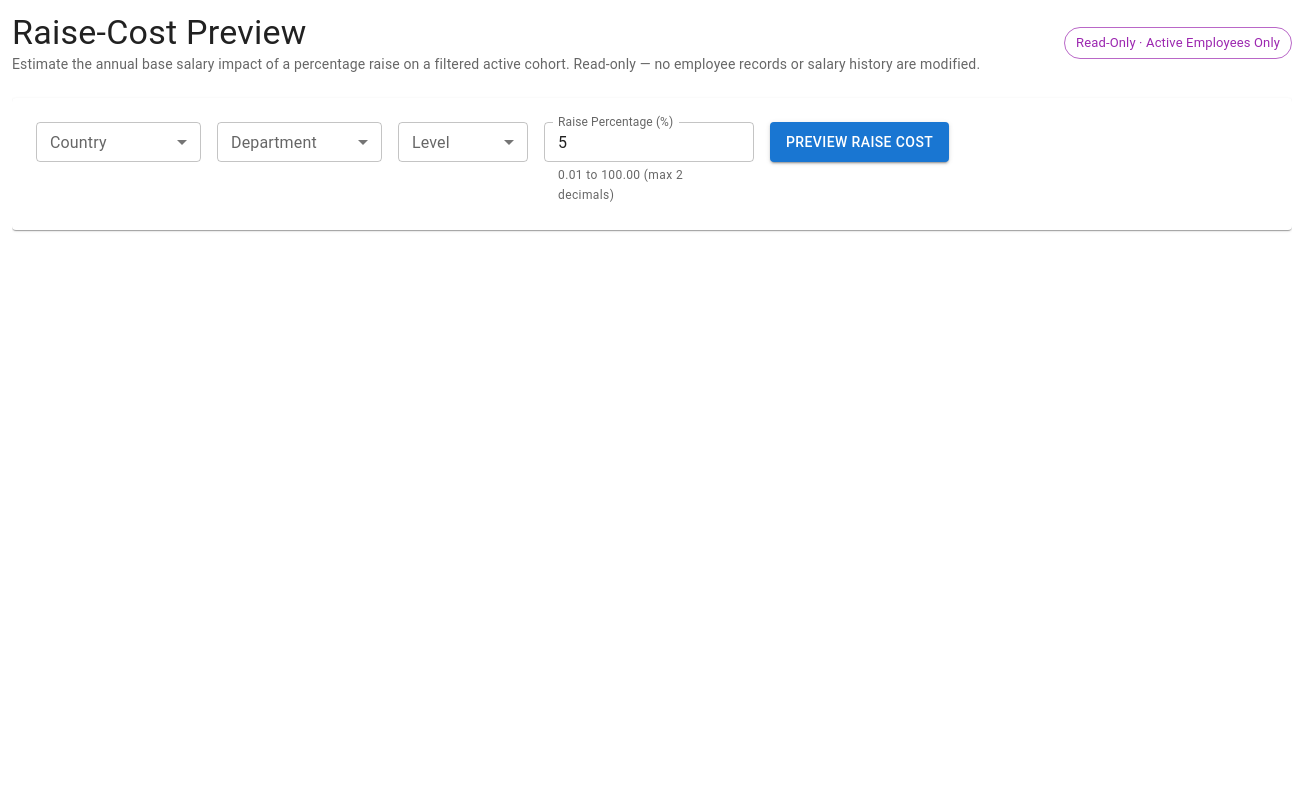
Test: RaiseCostPreviewPage validation, preview display, and directory link › validates invalid percentage locally and displays preview figures with matching directory link
Replace the text in the field labelled "Raise Percentage (%)" with "0": (649, 142) top-left (544, 122), bottom-right (754, 162)
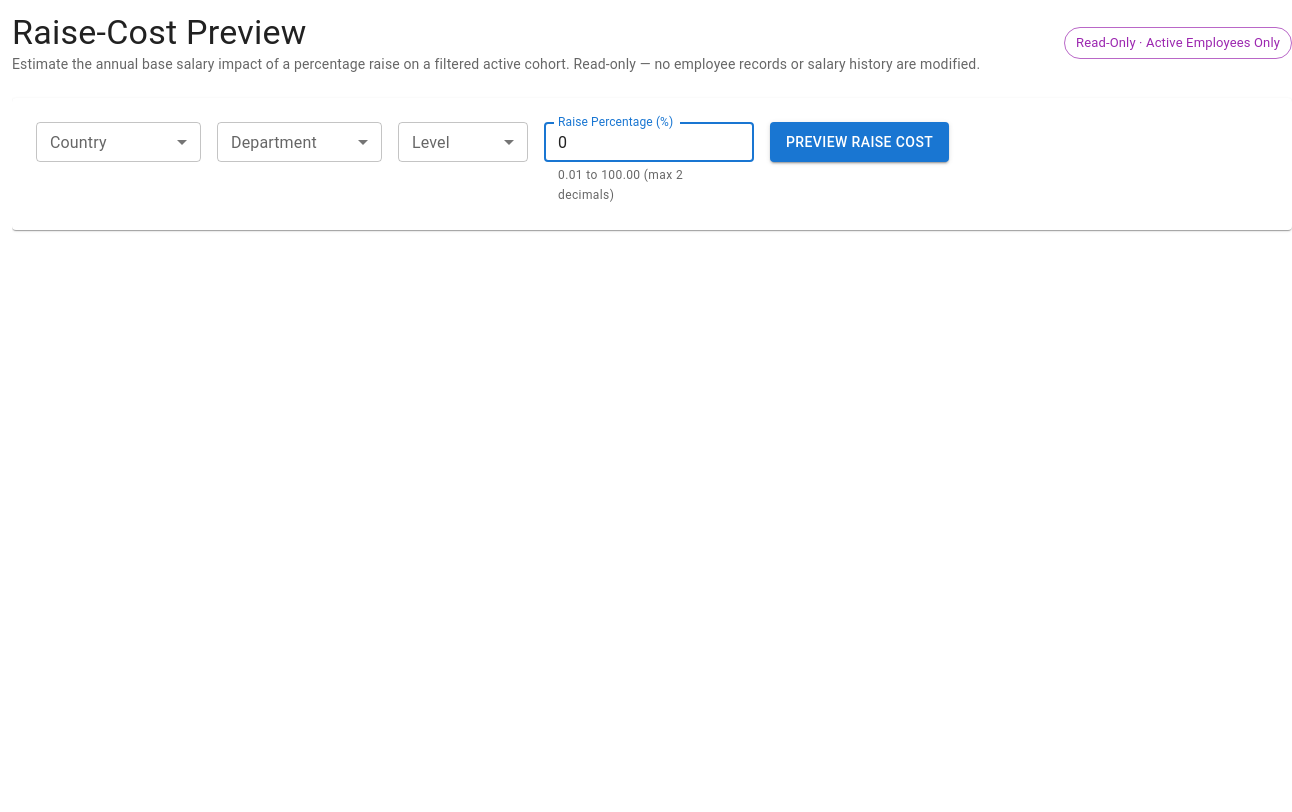
Click the button "Preview Raise Cost": (860, 142) top-left (770, 122), bottom-right (949, 162)
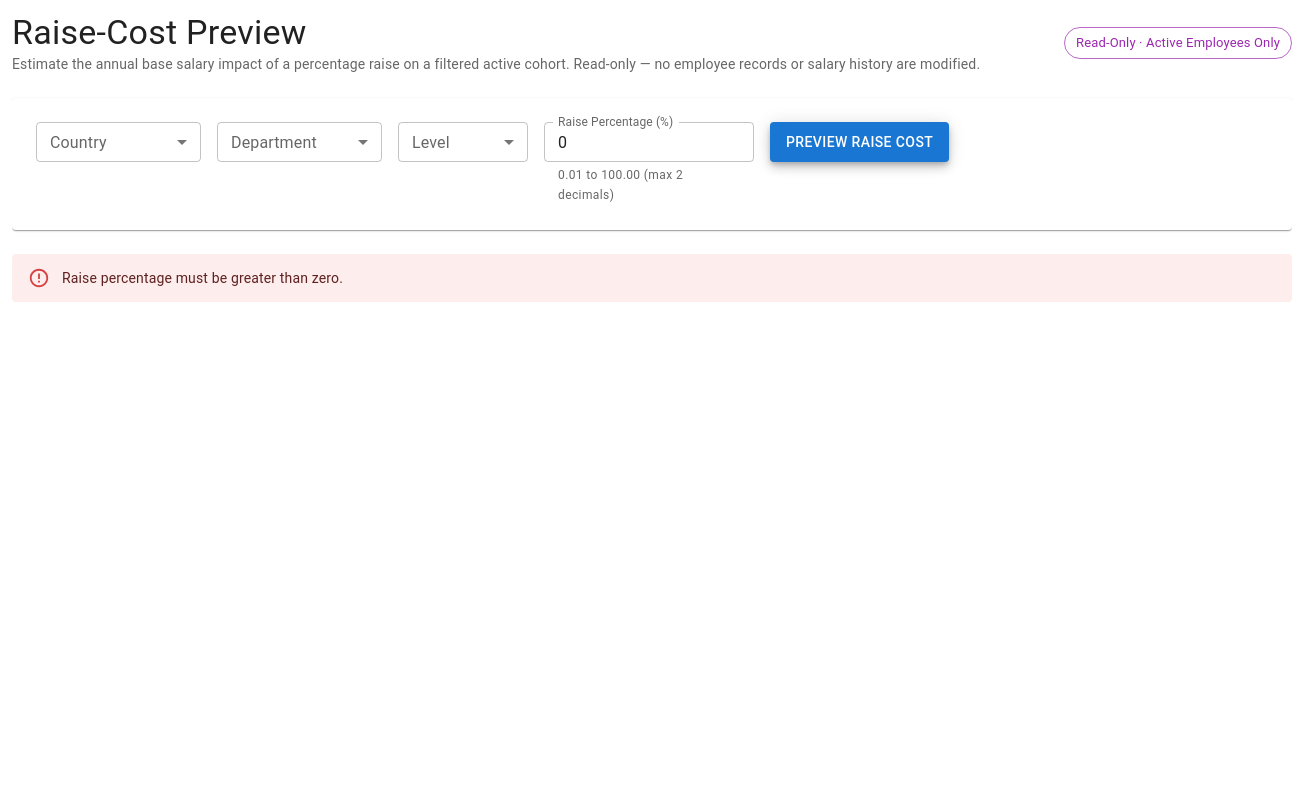
Result: the text "Raise percentage must be greater than zero." is shown at top-left (62, 270), bottom-right (343, 286)
Replace the text in the field labelled "Raise Percentage (%)" with "5": (649, 142) top-left (544, 122), bottom-right (754, 162)
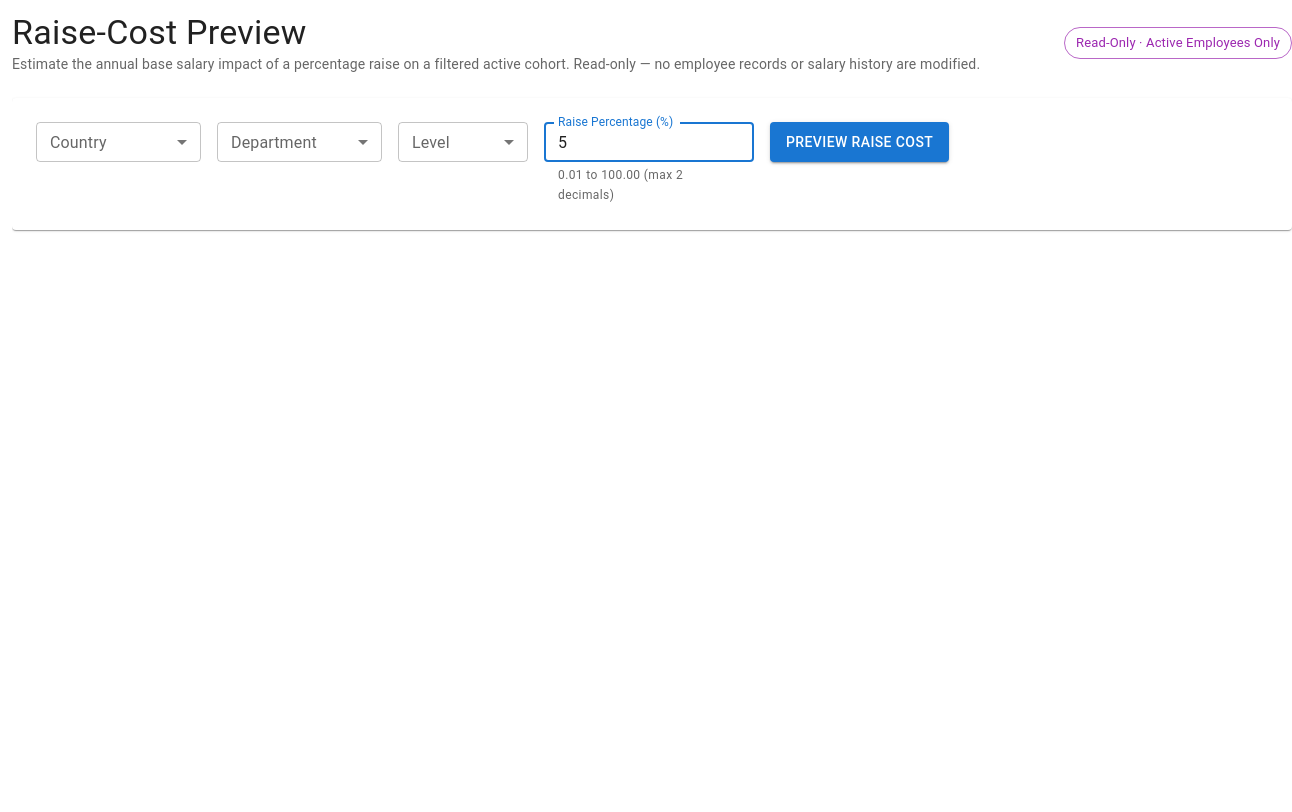
Click the button "Preview Raise Cost": (860, 142) top-left (770, 122), bottom-right (949, 162)
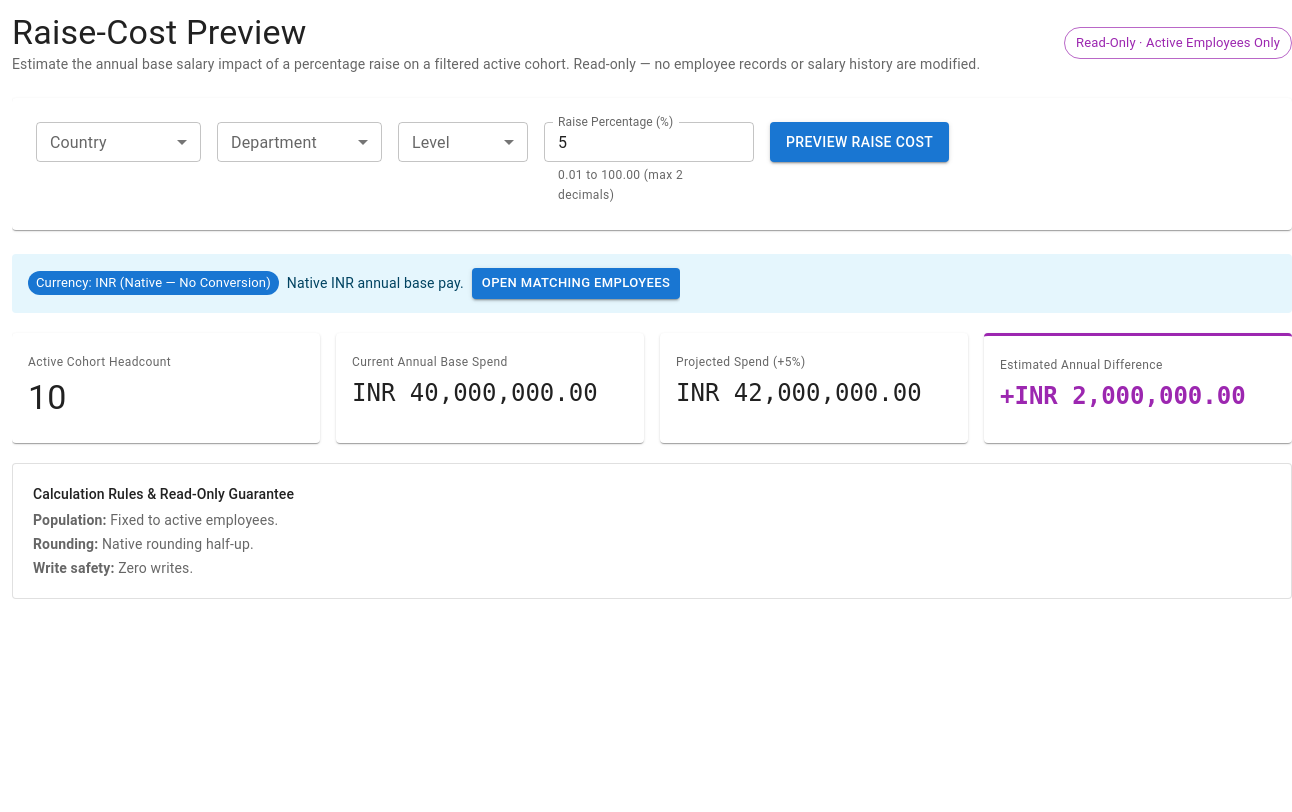
Result: the heading with test id "preview-current-spend" reads "INR 40,000,000.00" at top-left (352, 379), bottom-right (598, 407)
Result: the heading with test id "preview-projected-spend" reads "INR 42,000,000.00" at top-left (676, 379), bottom-right (922, 407)
Result: the heading with test id "preview-difference" reads "+INR 2,000,000.00" at top-left (1000, 380), bottom-right (1276, 412)
